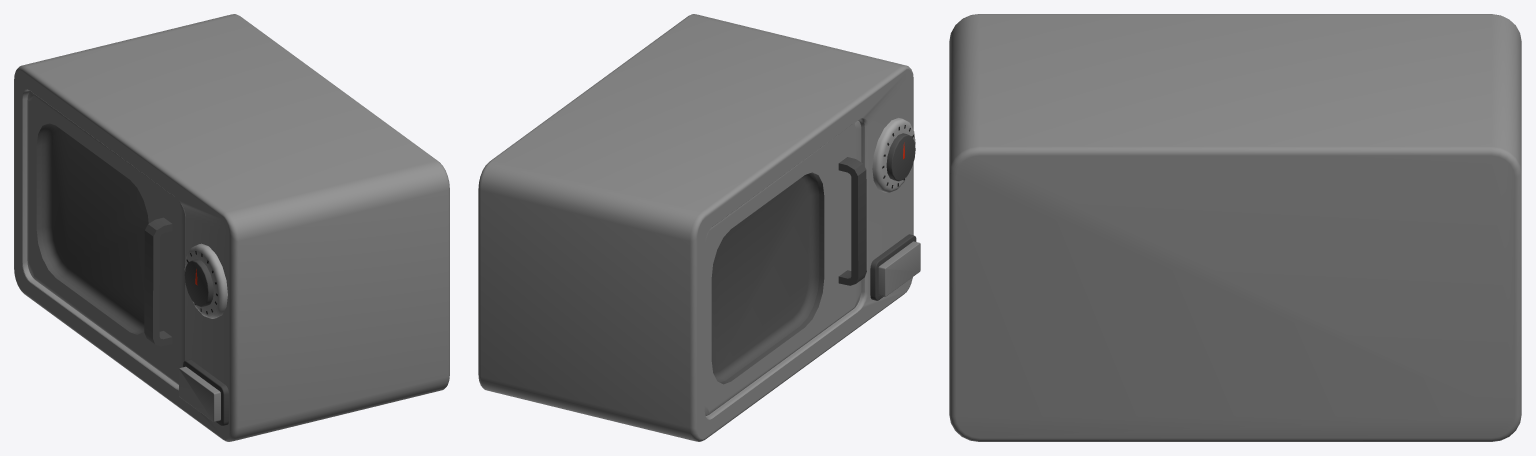
Rendered from Microwave.fbx.
The picture shows the model from 3 angles, left to right: view 1: azimuth 30°, elevation 25°; view 2: azimuth 150°, elevation 25°; view 3: azimuth 270°, elevation 25°; orthographic projection. The views are drawn at different scales.
Visible parts, largest first — view 1: Microwave; view 2: Microwave; view 3: Microwave.
Part boxes in pixels (x1=…): Microwave: x1=14, y1=14, x2=449, y2=441; Microwave: x1=478, y1=14, x2=920, y2=441; Microwave: x1=949, y1=14, x2=1521, y2=441.
Bounding box in the file's own units: 42.41 × 39.57 × 69.64.
